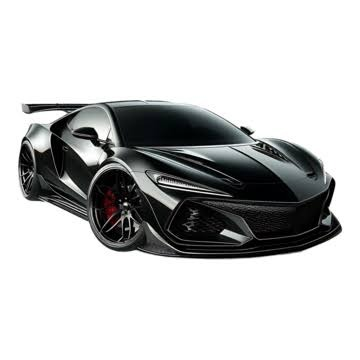car: (12, 101, 351, 263)
